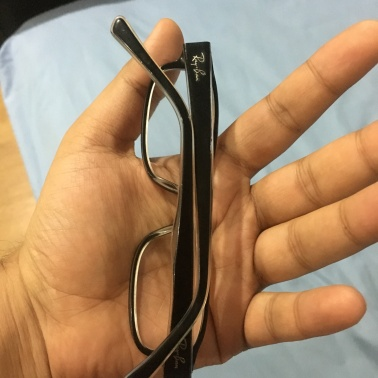glasses: (110, 13, 232, 378)
